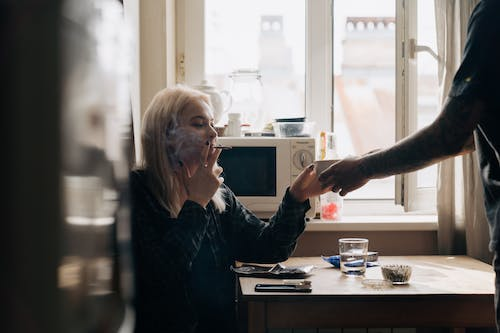cigarette: (210, 145, 234, 149)
